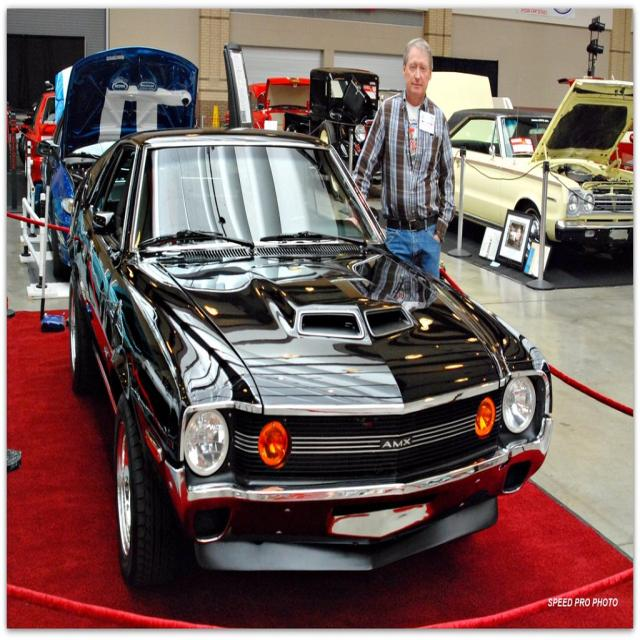car: (65, 127, 553, 571)
